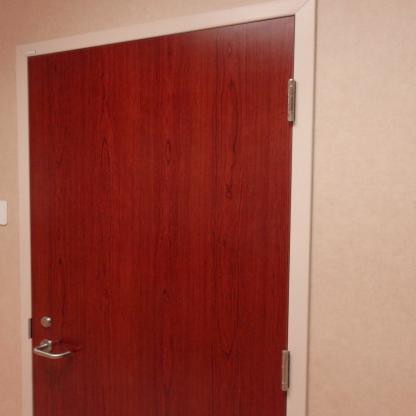door: (30, 22, 297, 415)
hinged: (280, 349, 292, 393), (286, 79, 298, 121)
lever: (32, 342, 72, 362)
